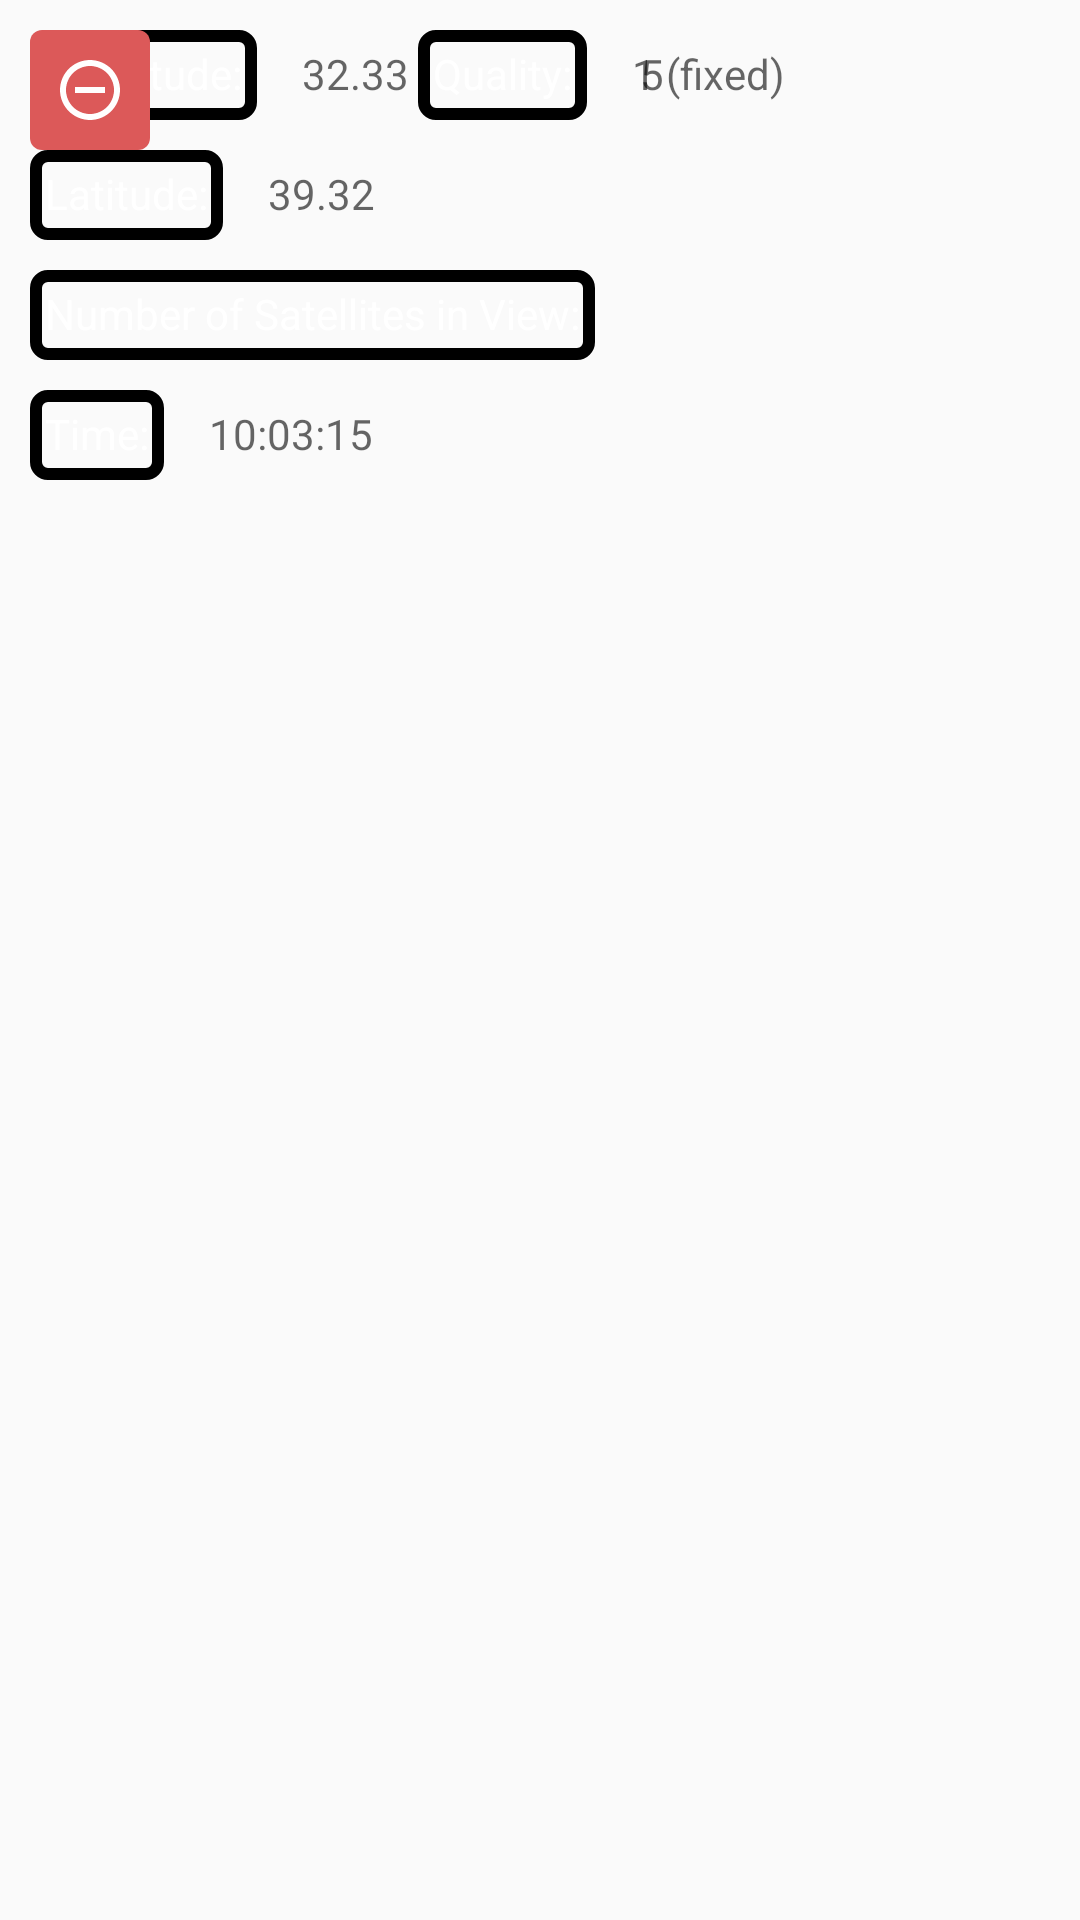

Where icons sit on this 1080 × 1920 app screen, as (x1, y1, x2, y2):
remove circle: (30, 30, 150, 150)
